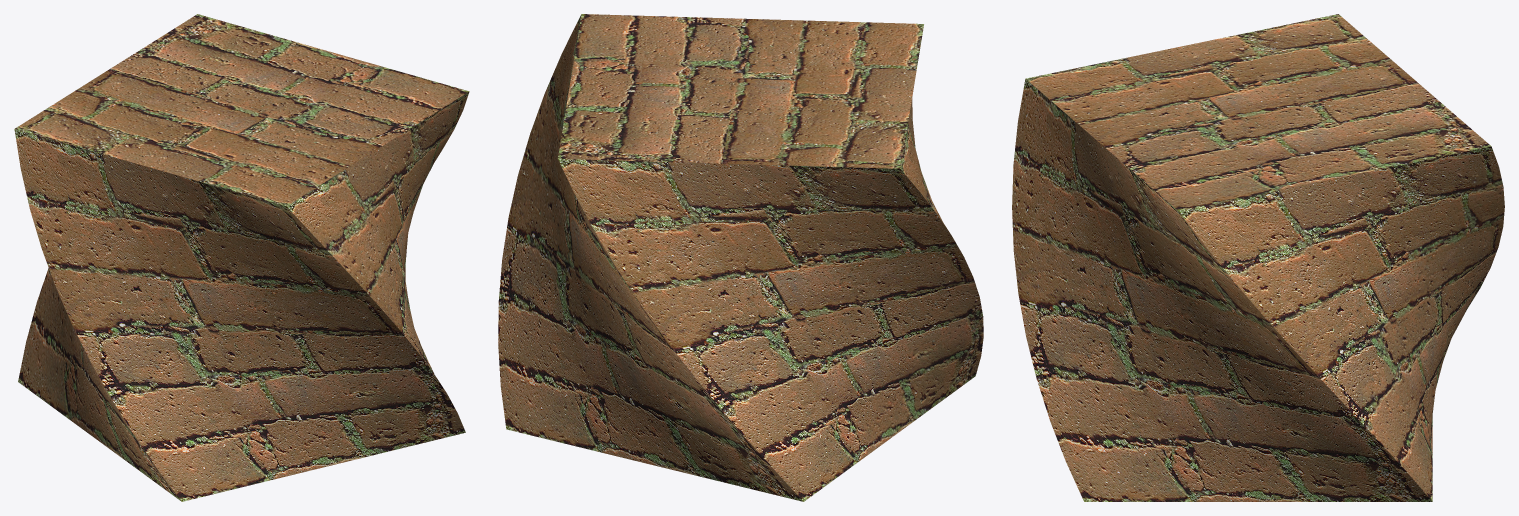
3 renders of one model, left to right at view 1: azimuth 30°, elevation 25°; view 2: azimuth 150°, elevation 25°; view 3: azimuth 270°, elevation 25°, orthographic. The views are drawn at different scales.
Parts seen in each view (by area): view 1: Cube; view 2: Cube; view 3: Cube.
Part boxes in pixels (<box>): Cube: <box>14,14,469,501</box>; Cube: <box>498,14,983,501</box>; Cube: <box>1012,14,1504,501</box>.
Bounding box in the file's own units: 0.2828 × 0.2 × 0.2828.
1 material, 1 textured.
